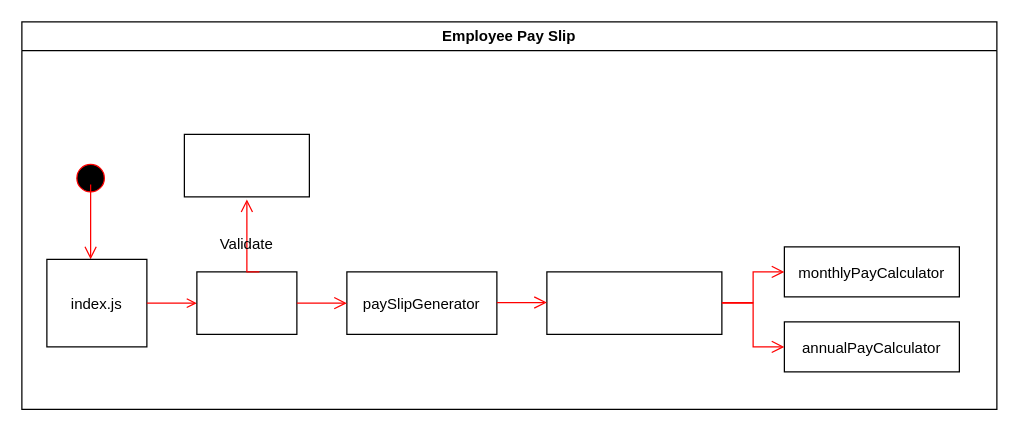
The diagram is 1019 pixels wide and 431 high, and some of its shapes have lost their labels. The box of each missing label's shape, as (x1, y1, x2, y2) in pixels:
incomeTaxCalculator: (546, 271, 722, 334)
parser: (196, 271, 297, 334)
Validations: (183, 133, 309, 197)
